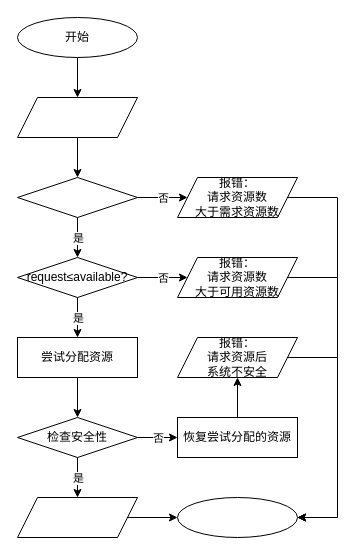
Image size: 363x555. Some labels were removed from this diagram. The centre of each missing label's shape, as x and y in pixels:
"request≤need?" belongs at point 77,197.
"分配资源给该线程" belongs at point 77,517.
"结束" belongs at point 237,517.
"进程i申请资源 request" belongs at point 77,117.
